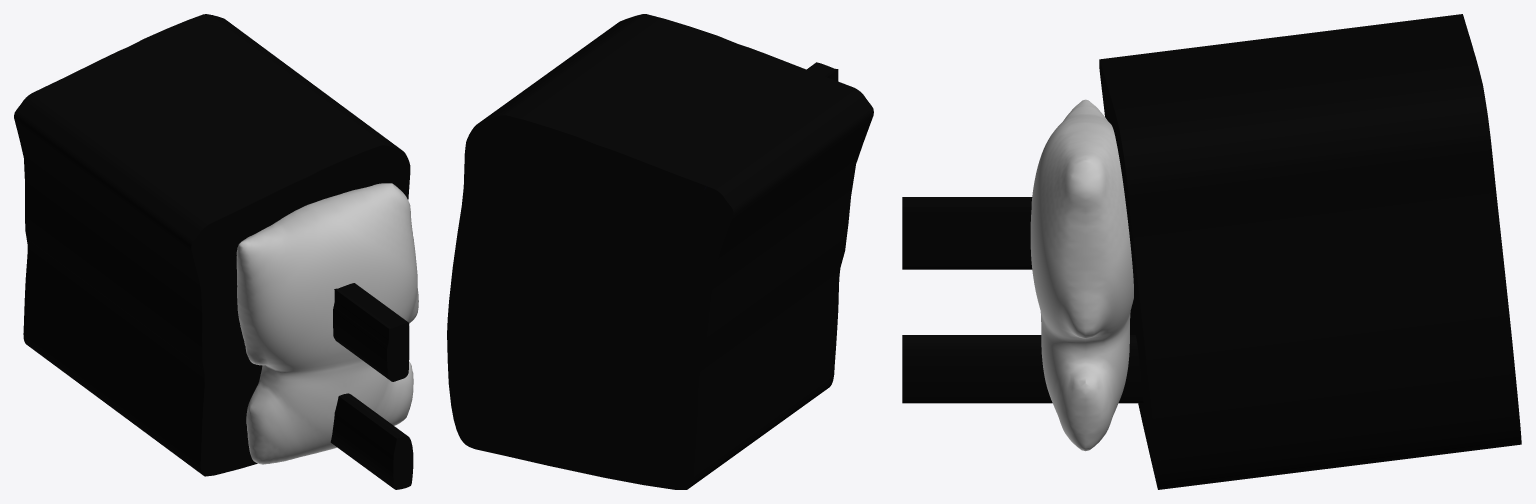
File: num8.glb
The picture shows the model from 3 angles, left to right: view 1: azimuth 30°, elevation 25°; view 2: azimuth 150°, elevation 25°; view 3: azimuth 270°, elevation 25°; orthographic projection. The views are drawn at different scales.
Parts seen in each view (by area): view 1: mesh_id35, mesh_id32, mesh_id28, mesh_id26; view 2: mesh_id35; view 3: mesh_id35, mesh_id32, mesh_id26, mesh_id28.
Boxes of the visible parts, x1,y1,x2,y2 form: mesh_id35: (14,14,410,476); mesh_id32: (236,183,418,464); mesh_id28: (333,283,409,381); mesh_id26: (330,393,413,489); mesh_id35: (447,14,873,489); mesh_id35: (1099,14,1521,489); mesh_id32: (1030,99,1133,451); mesh_id26: (902,335,1143,403); mesh_id28: (902,197,1032,269).
Bounding box in the file's own units: 0.0991 × 0.116 × 0.169.
4 materials, 4 textured.
